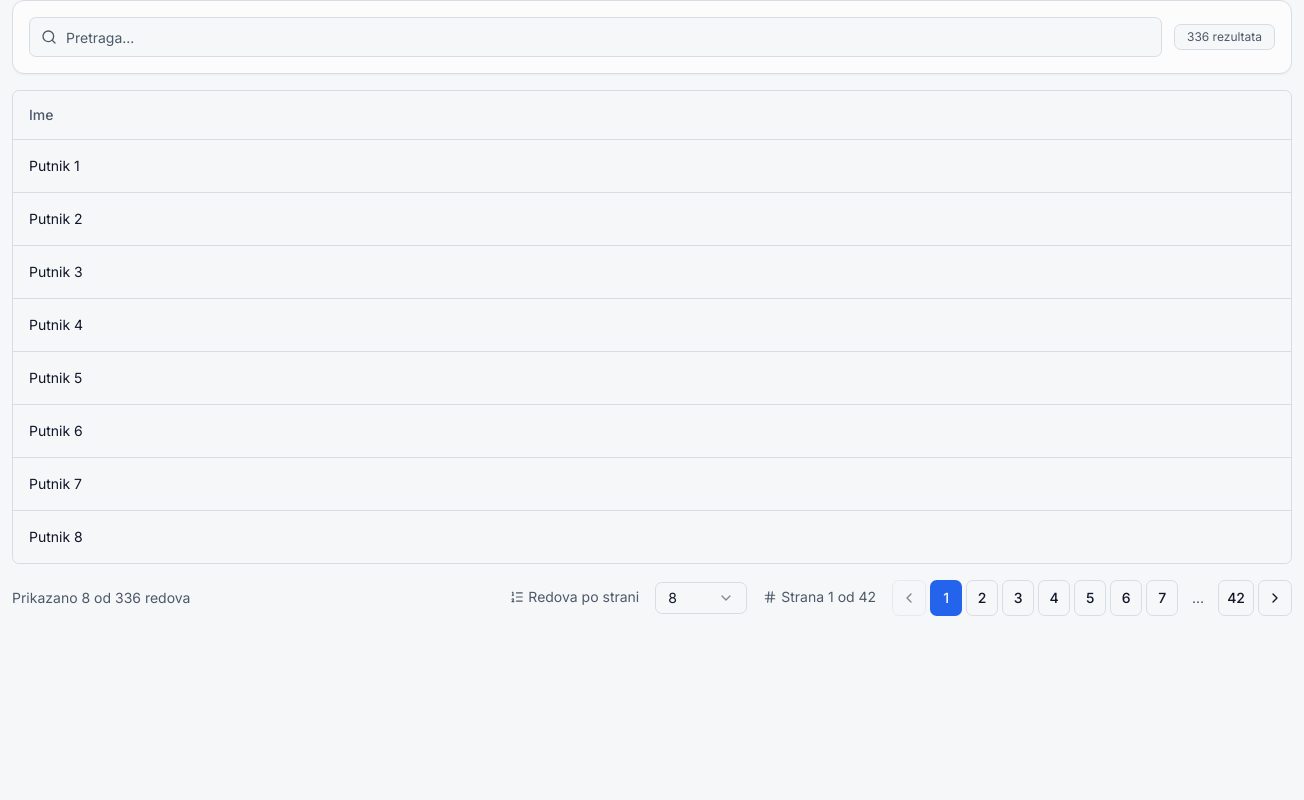
Test case: data table pagination › goes back to the first page when a search shrinks the table
Click the button named "Idi na stranu 42". click: {"x": 1236, "y": 598}
box: x1=1218 y1=580 x2=1254 y2=616
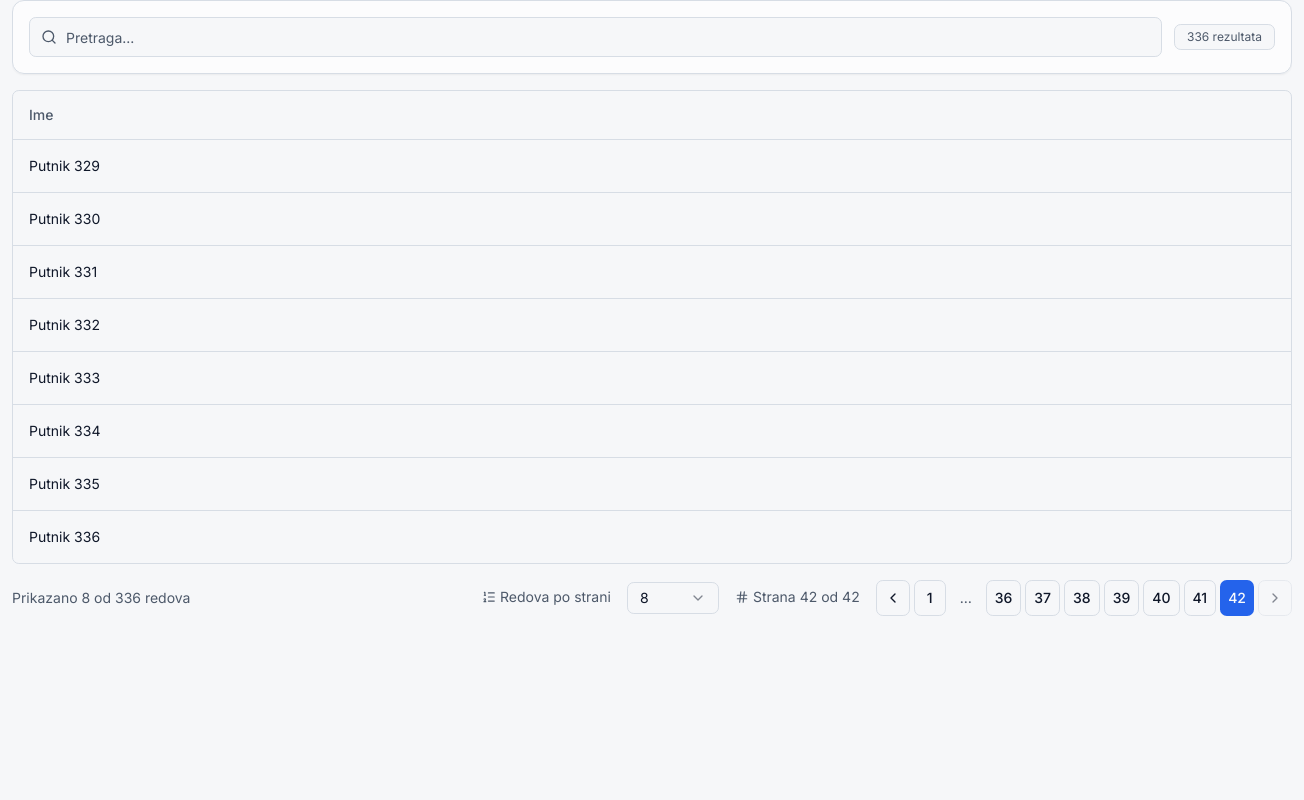
Note: Matches Putnik 3, 30-39 and 300-336: 48 rows, 6 pages.
Type "Putnik 3" into the field with placeholder "Pretraga...". click: {"x": 596, "y": 37}
box: x1=29 y1=17 x2=1162 y2=57
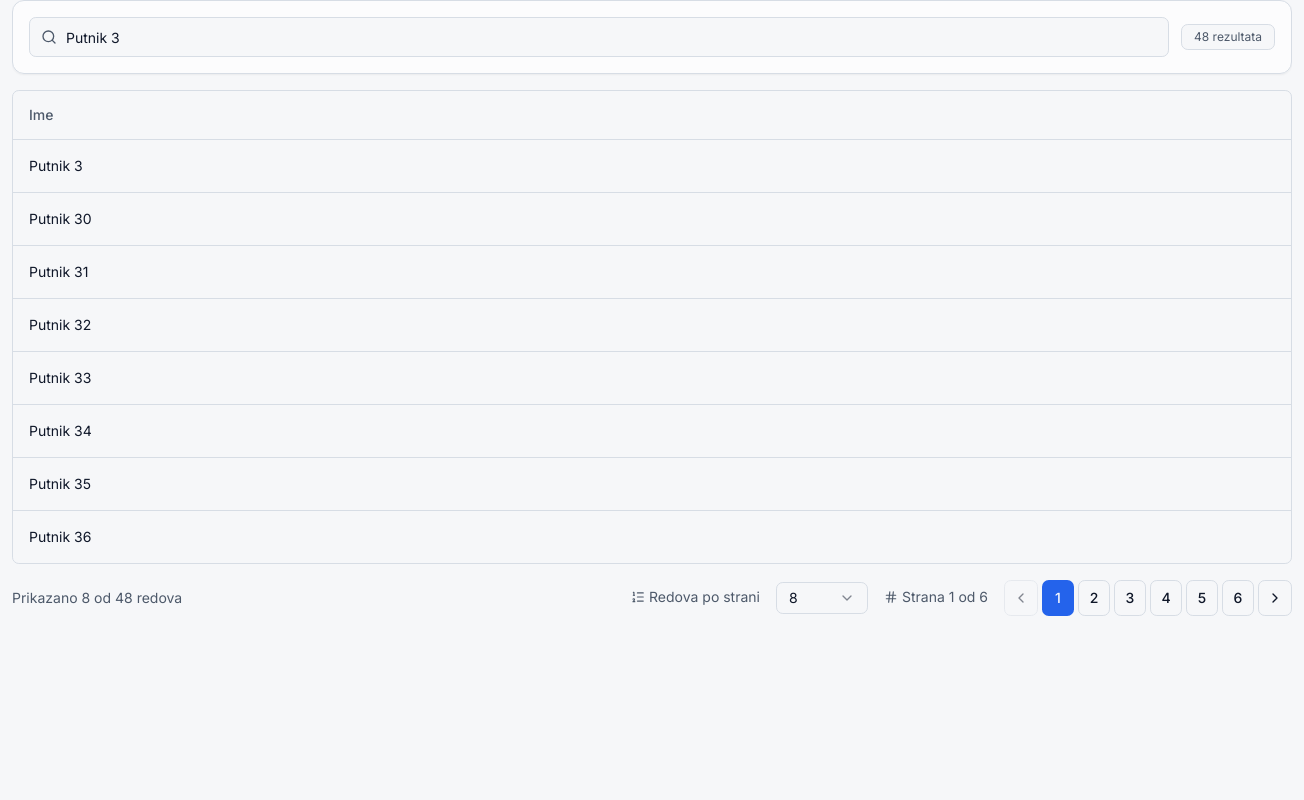
expect the text "Putnik 3" is shown: met, box x1=13 y1=139 x2=1291 y2=192
expect the text "Strana 1 od 6" is shown: met, box x1=884 y1=586 x2=988 y2=606
